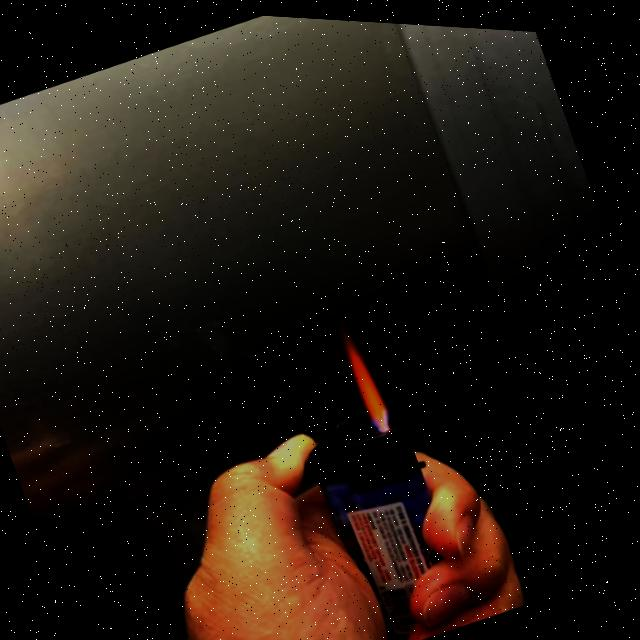Fire: (334, 312, 401, 427)
